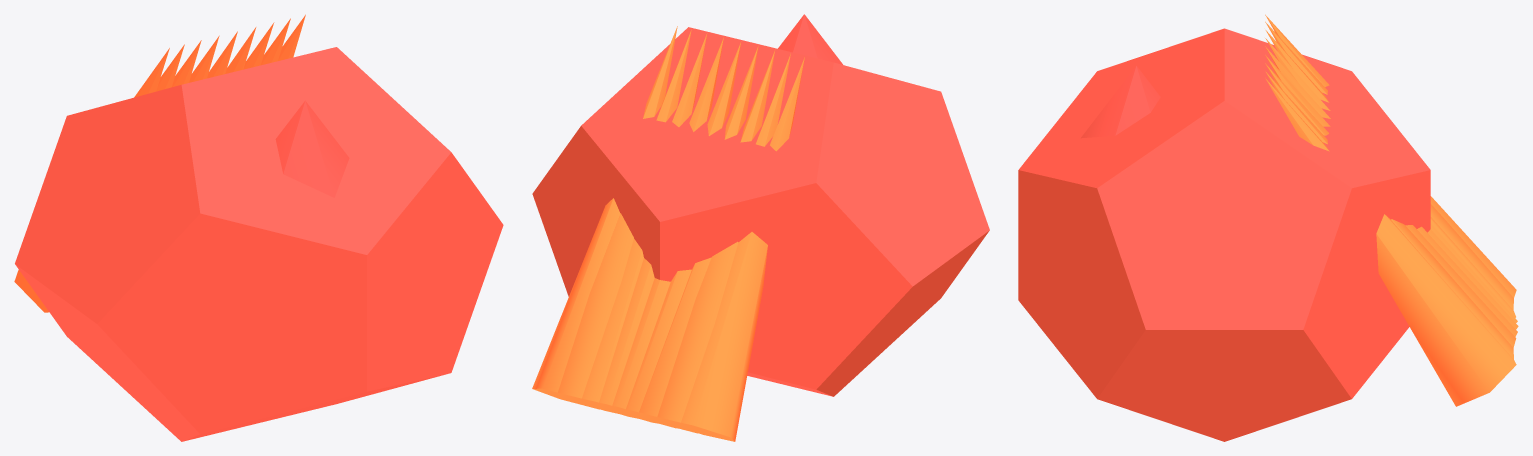
The model's file is nine_tail_shadow.glb.
The picture shows the model from 3 angles, left to right: view 1: azimuth 30°, elevation 25°; view 2: azimuth 150°, elevation 25°; view 3: azimuth 270°, elevation 25°; orthographic projection. The views are drawn at different scales.
Parts seen in each view (by area): view 1: body, head, tail_01; view 2: body, tail_01, tail_08, tail_02, tail_09, tail_03, tail_07, tail_04, tail_06, tail_05, head; view 3: body, tail_09, head, tail_08, tail_07, tail_02, tail_06, tail_01, tail_05, tail_03, tail_04.
Boxes of the visible parts, left/top/right/bottom form: body: left=15, top=47, right=503, bottom=441; head: left=275, top=100, right=349, bottom=197; tail_01: left=14, top=48, right=169, bottom=312; body: left=532, top=27, right=989, bottom=396; tail_01: left=662, top=57, right=804, bottom=441; tail_08: left=549, top=29, right=691, bottom=413; tail_02: left=656, top=53, right=790, bottom=435; tail_09: left=532, top=26, right=677, bottom=409; tail_03: left=631, top=50, right=775, bottom=433; tail_07: left=564, top=33, right=707, bottom=416; tail_04: left=613, top=46, right=758, bottom=428; tail_06: left=585, top=37, right=723, bottom=418; tail_05: left=600, top=41, right=741, bottom=425; head: left=778, top=14, right=842, bottom=64; body: left=1018, top=28, right=1430, bottom=441; tail_09: left=1265, top=78, right=1516, bottom=406; head: left=1081, top=66, right=1160, bottom=138; tail_08: left=1265, top=71, right=1513, bottom=358; tail_07: left=1265, top=63, right=1516, bottom=347; tail_02: left=1265, top=21, right=1513, bottom=309; tail_06: left=1265, top=55, right=1517, bottom=336; tail_01: left=1265, top=14, right=1516, bottom=297; tail_05: left=1265, top=46, right=1518, bottom=329; tail_03: left=1265, top=30, right=1515, bottom=317; tail_04: left=1265, top=38, right=1517, bottom=322.
Size of the model in its own units: 3.15 by 2.8 by 3.52.
